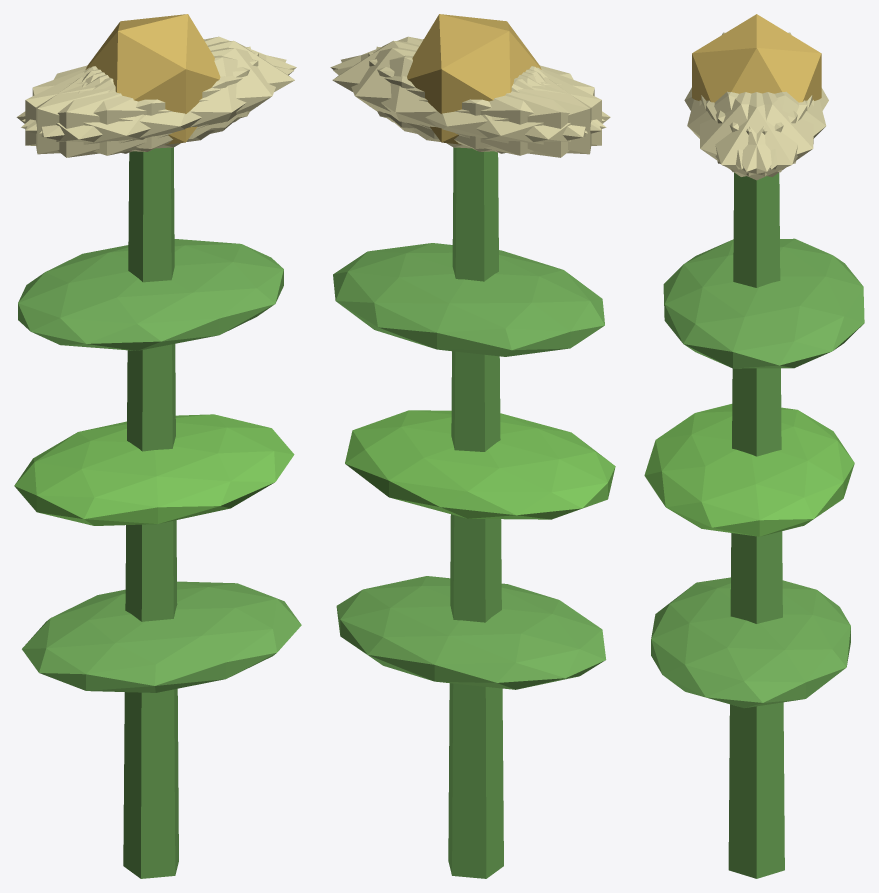
The model's file is duranta-erecta.glb.
3 views of the same model, side by side, from view 1: azimuth 30°, elevation 25°; view 2: azimuth 150°, elevation 25°; view 3: azimuth 270°, elevation 25° (orthographic).
Parts seen in each view (by area): view 1: stem, leaf1, leaf0, leaf2, center, petal1, petal6, petal2, petal5, petal7, petal0, petal4 (+2 smaller); view 2: stem, leaf2, leaf1, leaf0, center, petal8, petal3, petal7, petal4, petal2, petal0, petal5 (+2 smaller); view 3: stem, leaf2, leaf1, leaf0, center, petal0, petal5, petal4, petal8, petal1.
Boxes of the visible parts, x1,y1,x2,y2 form: stem: [123, 147, 178, 878]; leaf1: [14, 414, 294, 525]; leaf0: [22, 581, 301, 692]; leaf2: [18, 239, 283, 350]; center: [85, 14, 220, 144]; petal1: [21, 55, 293, 155]; petal6: [16, 67, 214, 157]; petal2: [36, 46, 250, 154]; petal5: [39, 47, 286, 148]; petal7: [25, 52, 258, 151]; petal0: [85, 40, 294, 139]; petal4: [22, 36, 296, 130]; stem: [448, 147, 503, 878]; leaf2: [333, 243, 604, 356]; leaf1: [345, 410, 615, 519]; leaf0: [336, 576, 606, 689]; center: [407, 14, 541, 144]; petal8: [333, 55, 606, 155]; petal3: [412, 67, 610, 157]; petal7: [376, 46, 591, 154]; petal4: [341, 47, 587, 148]; petal2: [368, 52, 601, 151]; petal0: [332, 40, 541, 139]; petal5: [330, 36, 604, 130]; stem: [728, 172, 784, 878]; leaf2: [663, 238, 864, 368]; leaf1: [644, 404, 854, 536]; leaf0: [651, 577, 850, 708]; center: [692, 14, 821, 102]; petal0: [701, 92, 812, 180]; petal5: [699, 92, 807, 176]; petal4: [706, 92, 813, 176]; petal8: [716, 91, 826, 169]; petal1: [687, 91, 797, 169].
Bounding box in the file's own units: 0.1452 × 0.4359 × 0.1041.
